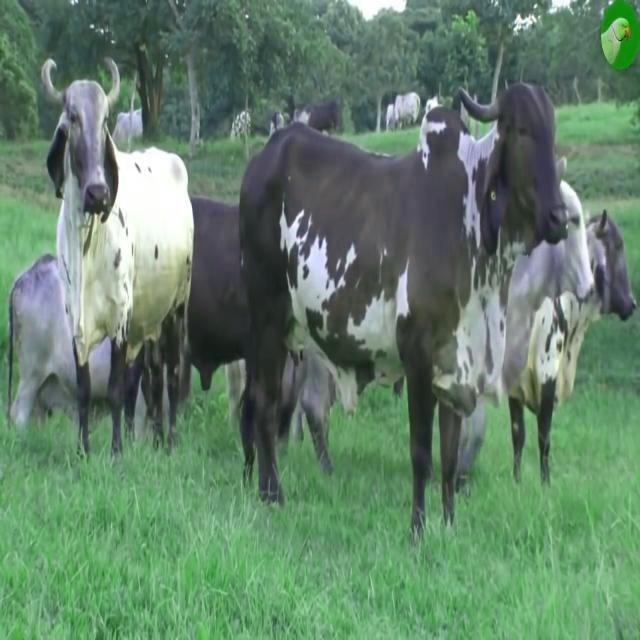cow: (240, 85, 570, 532), (42, 61, 194, 453)
